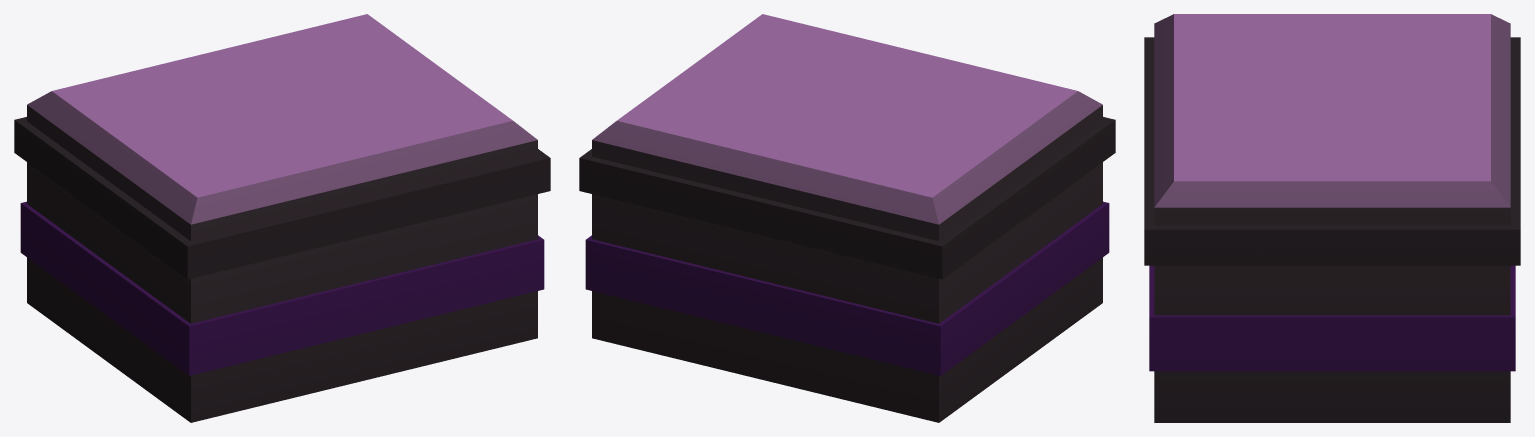
The model's file is active-provider-chest.glb.
3 renders of one model, left to right at view 1: azimuth 30°, elevation 25°; view 2: azimuth 150°, elevation 25°; view 3: azimuth 270°, elevation 25°, orthographic. The views are drawn at different scales.
Parts seen in each view (by area): view 1: active-provider-chest; view 2: active-provider-chest; view 3: active-provider-chest.
Boxes of the visible parts, x1,y1,x2,y2 form: active-provider-chest: [14, 14, 550, 422]; active-provider-chest: [579, 14, 1115, 422]; active-provider-chest: [1144, 14, 1520, 422].
Bounding box in the file's own units: 0.23 × 0.13 × 0.19.
